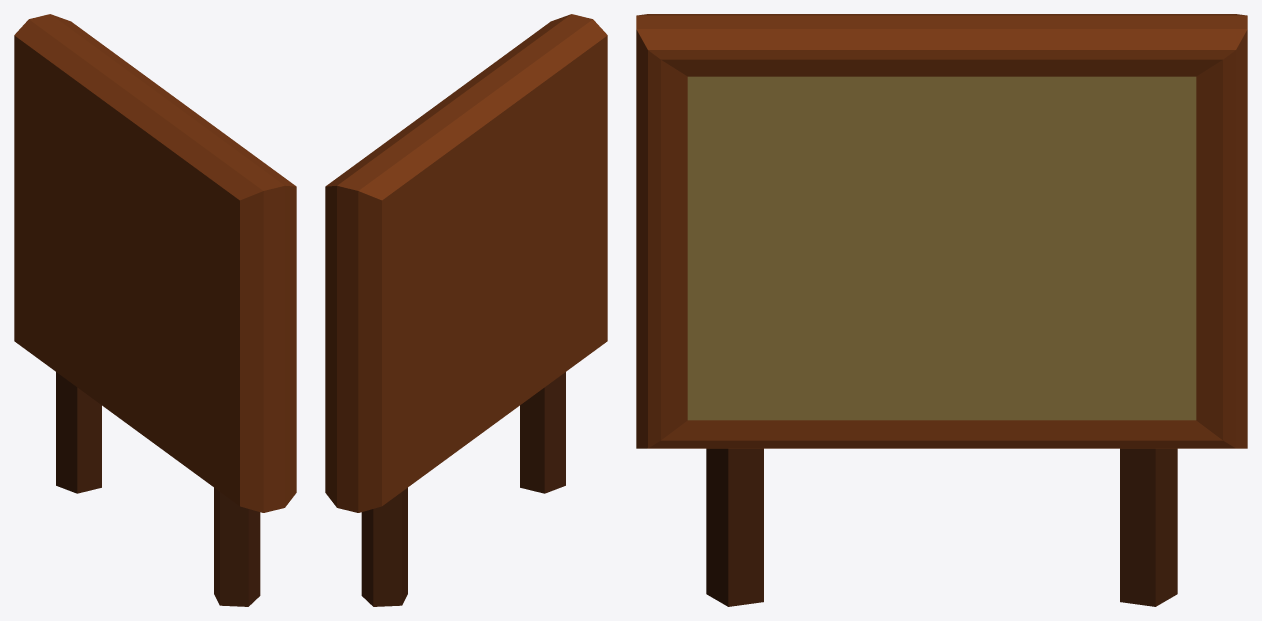
The model's file is Sign.fbx.
3 views of the same model, side by side, from view 1: azimuth 30°, elevation 25°; view 2: azimuth 150°, elevation 25°; view 3: azimuth 270°, elevation 25° (orthographic). The views are drawn at different scales.
Visible parts, largest first — view 1: Sign.001; view 2: Sign.001; view 3: Sign.001.
Part boxes in pixels (x1=…): Sign.001: x1=14, y1=14, x2=296, y2=606; Sign.001: x1=325, y1=14, x2=607, y2=606; Sign.001: x1=636, y1=14, x2=1247, y2=606.
Size of the model in its own units: 29.75 by 214 by 208.
